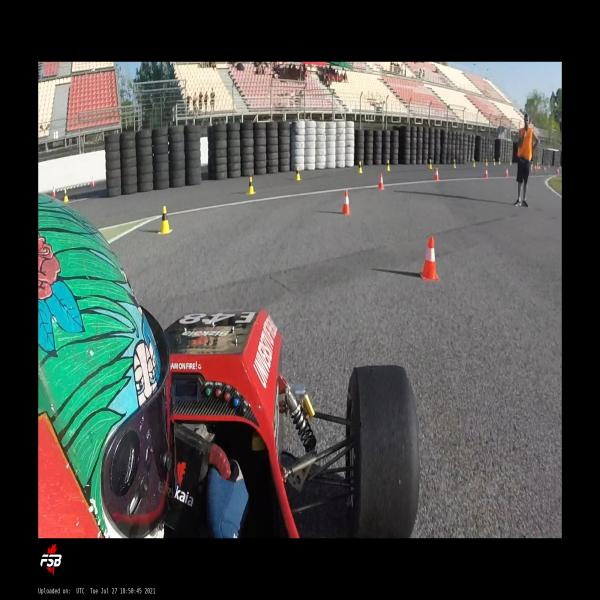orange_cone: (419, 236, 440, 280), (342, 190, 350, 215), (378, 173, 384, 190), (434, 168, 439, 180), (52, 186, 56, 197), (91, 177, 95, 187), (485, 168, 488, 178), (505, 168, 508, 177)
yellow_cone: (158, 206, 172, 234), (246, 176, 256, 194), (296, 166, 301, 181), (358, 160, 363, 174), (64, 189, 68, 202), (386, 159, 390, 171), (429, 159, 433, 169), (485, 158, 488, 166), (493, 158, 496, 165), (454, 159, 456, 168), (473, 159, 475, 168), (498, 158, 501, 164)
